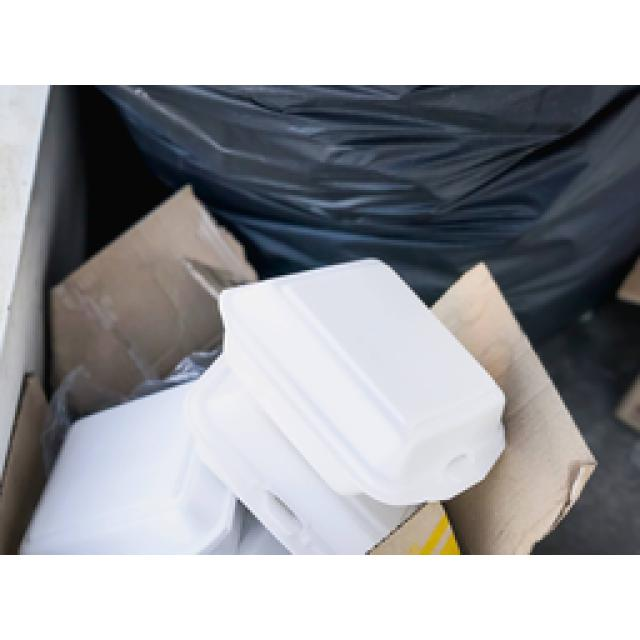styrofoam: (22, 260, 502, 552)
